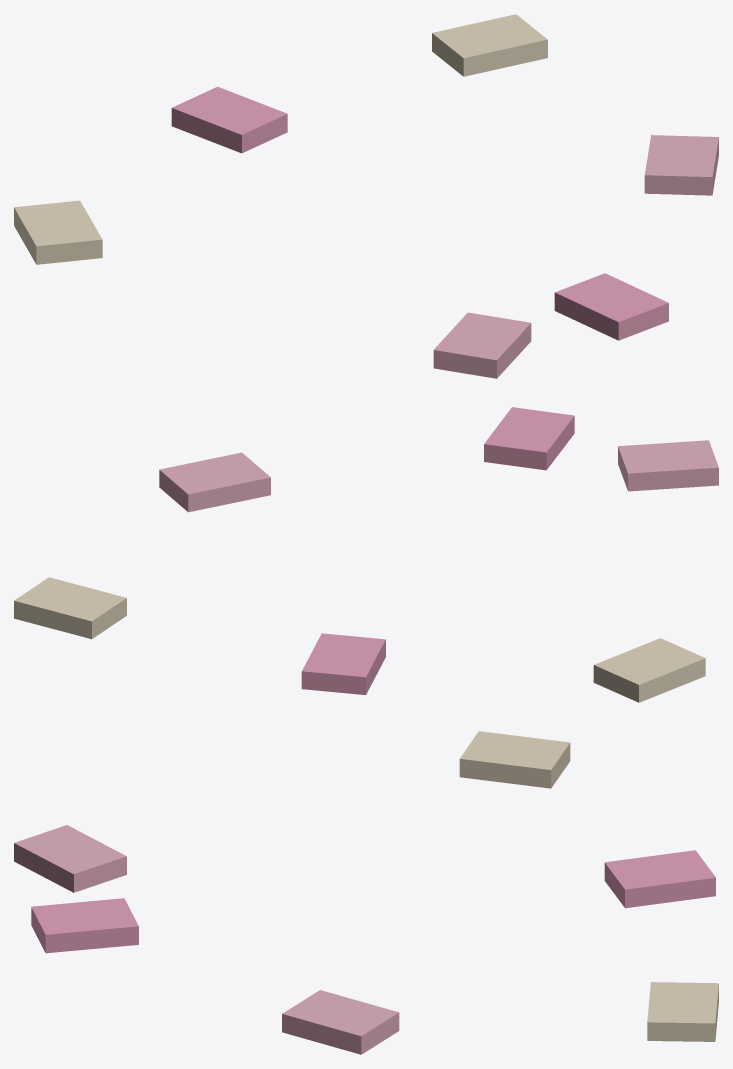
File: fallen-petals.glb
The picture shows the model from 3 angles, top to bottom: view 1: azimuth 30°, elevation 25°; view 2: azimuth 150°, elevation 25°; view 3: azimuth 270°, elevation 25°; orthographic projection. The views are drawn at different scales.
Parts seen in each view (by area): view 1: fallen-petals_body; view 2: fallen-petals_body; view 3: fallen-petals_body.
Part boxes in pixels (<box>): fallen-petals_body: <box>14,14,718,378</box>; fallen-petals_body: <box>14,407,718,702</box>; fallen-petals_body: <box>14,731,718,1054</box>.
Size of the model in its own units: 0.5298 by 0.015 by 0.5172.
